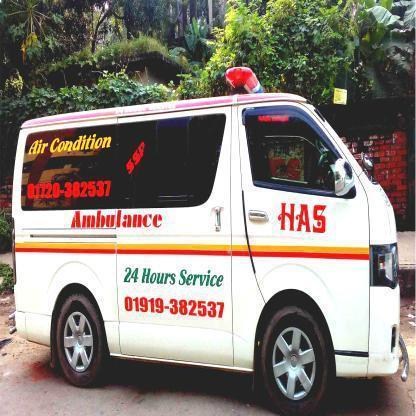Ambulance: (66, 208, 167, 232)
